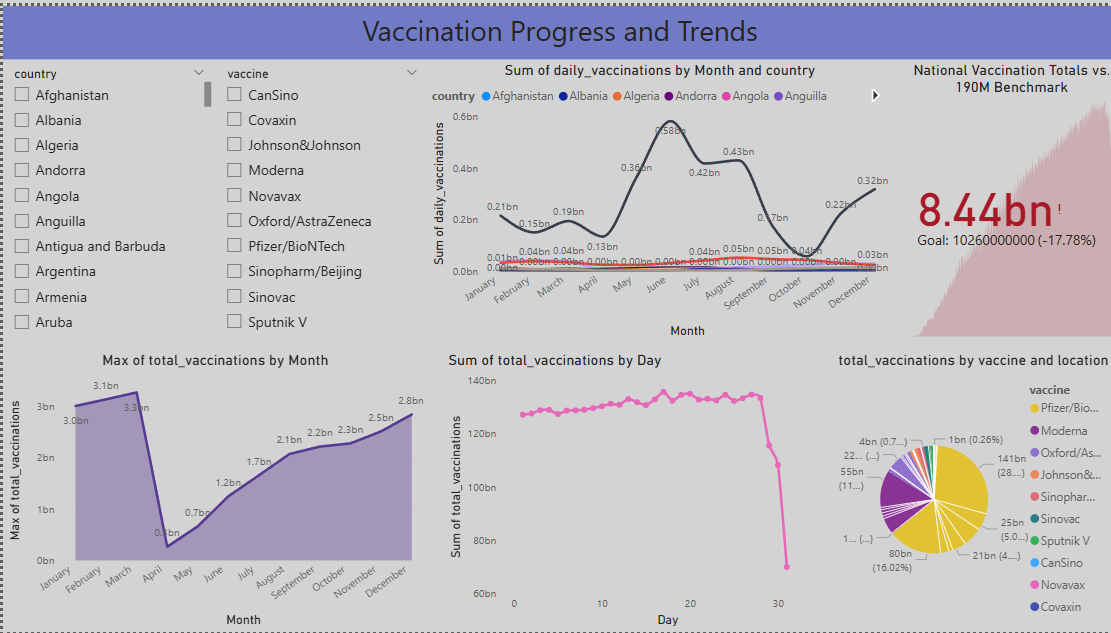

The page's visual inventory and layout, read from the dashboard file:
{"tool":"powerbi","page":{"name":"Vaccination Progress and Trends","canvas":[1280,720],"ordinal":1},"visuals":[{"type":"lineChart","fields":{"Y":["Sum(vaccine_cleaned.daily_vaccinations)"],"Category":["vaccine_cleaned.date.Variation.Date Hierarchy.Month"],"Series":["vaccine_cleaned.country"]},"box":[488.5,63.9,534.4,321.3],"z":0},{"type":"slicer","fields":{"Values":["vaccine_cleaned.country"]},"box":[0,63.9,244.3,321.3],"z":1000},{"type":"slicer","fields":{"Values":["country_vaccinations_by_manufacturer.vaccine"]},"box":[244.3,63.9,244.3,321.3],"z":2000},{"type":"textbox","box":[0,0,1280.6,61.3],"z":3000},{"type":"areaChart","fields":{"Category":["vaccine_cleaned.date.Variation.Date Hierarchy.Month","vaccine_cleaned.date.Variation.Date Hierarchy.Day"],"Y":["Max(vaccine_cleaned.total_vaccinations)"]},"box":[0,396.7,488.5,321.3],"z":4000},{"type":"lineChart","fields":{"Y":["Sum(vaccine_cleaned.total_vaccinations)"],"Category":["vaccine_cleaned.date.Variation.Date Hierarchy.Day"]},"box":[506.6,396.7,449.2,321.3],"z":5000},{"type":"kpi","title":"National Vaccination Totals vs. 190M Benchmark","fields":{"TrendLine":["vaccine_cleaned.date"],"Goal":["Sum(vaccine_cleaned.TargetVaccination)"],"Indicator":["Sum(vaccine_cleaned.total_vaccinations)"]},"box":[1037.7,63.9,242.6,321.3],"z":6000},{"type":"pieChart","title":"total_vaccinations by vaccine and location","fields":{"Category":["country_vaccinations_by_manufacturer.vaccine"],"Series":["country_vaccinations_by_manufacturer.location"],"Y":["Sum(country_vaccinations_by_manufacturer.total_vaccinations)"]},"box":[955.7,396.7,324.6,321.3],"z":7000}]}

Visuals, with their boxes in screenshot pixels (x1, y1, x2, y2), scaled from the page's 1280x720 canvas onto the 1111x633 screenshot:
lineChart - Sum(vaccine_cleaned.daily_vaccinations) x vaccine_cleaned.date.Variation.Date Hierarchy.Month: crop(424, 56, 888, 339)
slicer - vaccine_cleaned.country: crop(0, 56, 212, 339)
slicer - country_vaccinations_by_manufacturer.vaccine: crop(212, 56, 424, 339)
textbox: crop(0, 0, 1110, 54)
areaChart - vaccine_cleaned.date.Variation.Date Hierarchy.Month x vaccine_cleaned.date.Variation.Date Hierarchy.Day: crop(0, 349, 424, 631)
lineChart - Sum(vaccine_cleaned.total_vaccinations) x vaccine_cleaned.date.Variation.Date Hierarchy.Day: crop(440, 349, 830, 631)
"National Vaccination Totals vs. 190M Benchmark" kpi: crop(901, 56, 1110, 339)
"total_vaccinations by vaccine and location" pieChart: crop(830, 349, 1110, 631)
